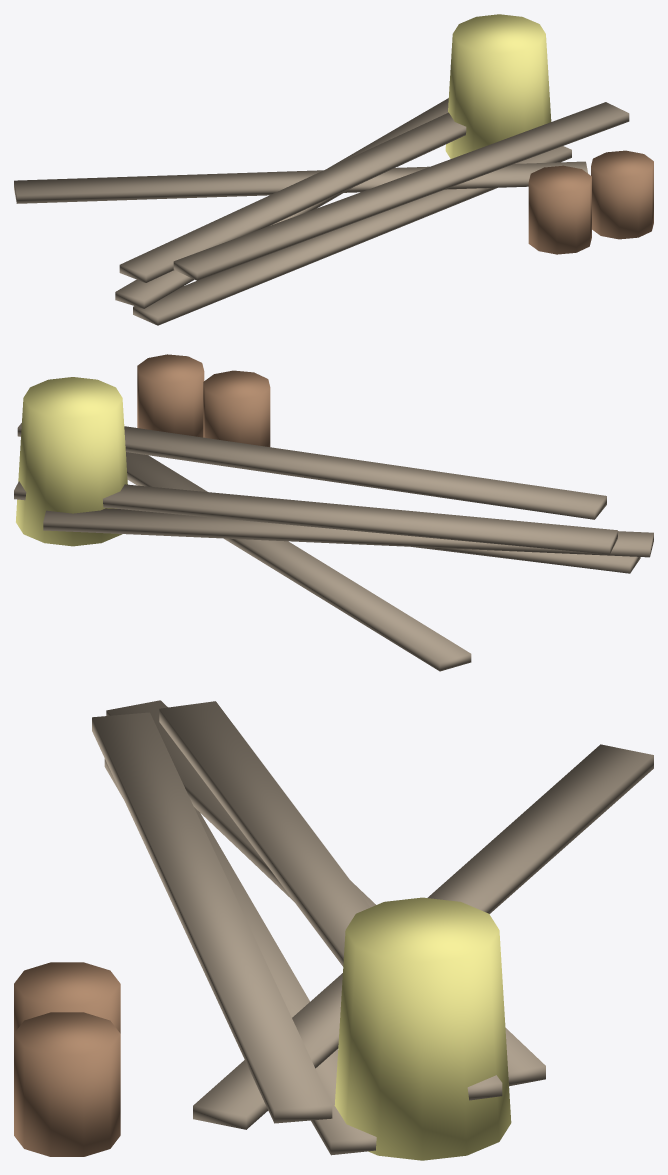
The model's file is alley_junk.glb.
The picture shows the model from 3 angles, top to bottom: view 1: azimuth 30°, elevation 25°; view 2: azimuth 150°, elevation 25°; view 3: azimuth 270°, elevation 25°; orthographic projection. The views are drawn at different scales.
Parts seen in each view (by area): view 1: alley_junk; view 2: alley_junk; view 3: alley_junk.
Part boxes in pixels (box(x1,y1,x2,y2)): alley_junk: box(14, 14, 653, 325); alley_junk: box(14, 354, 653, 671); alley_junk: box(14, 700, 653, 1160).
Bounding box in the file's own units: 1.77 × 0.36 × 1.08.
